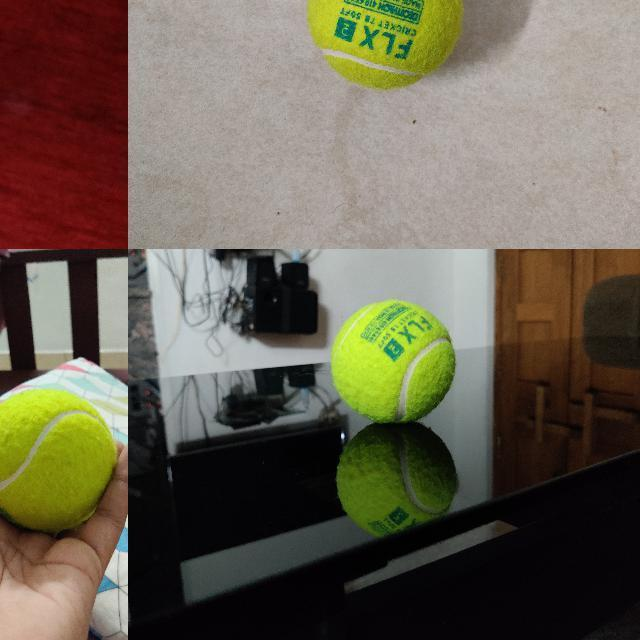tennis-ball: (0, 388, 116, 529), (330, 299, 456, 423), (306, 0, 464, 91)
